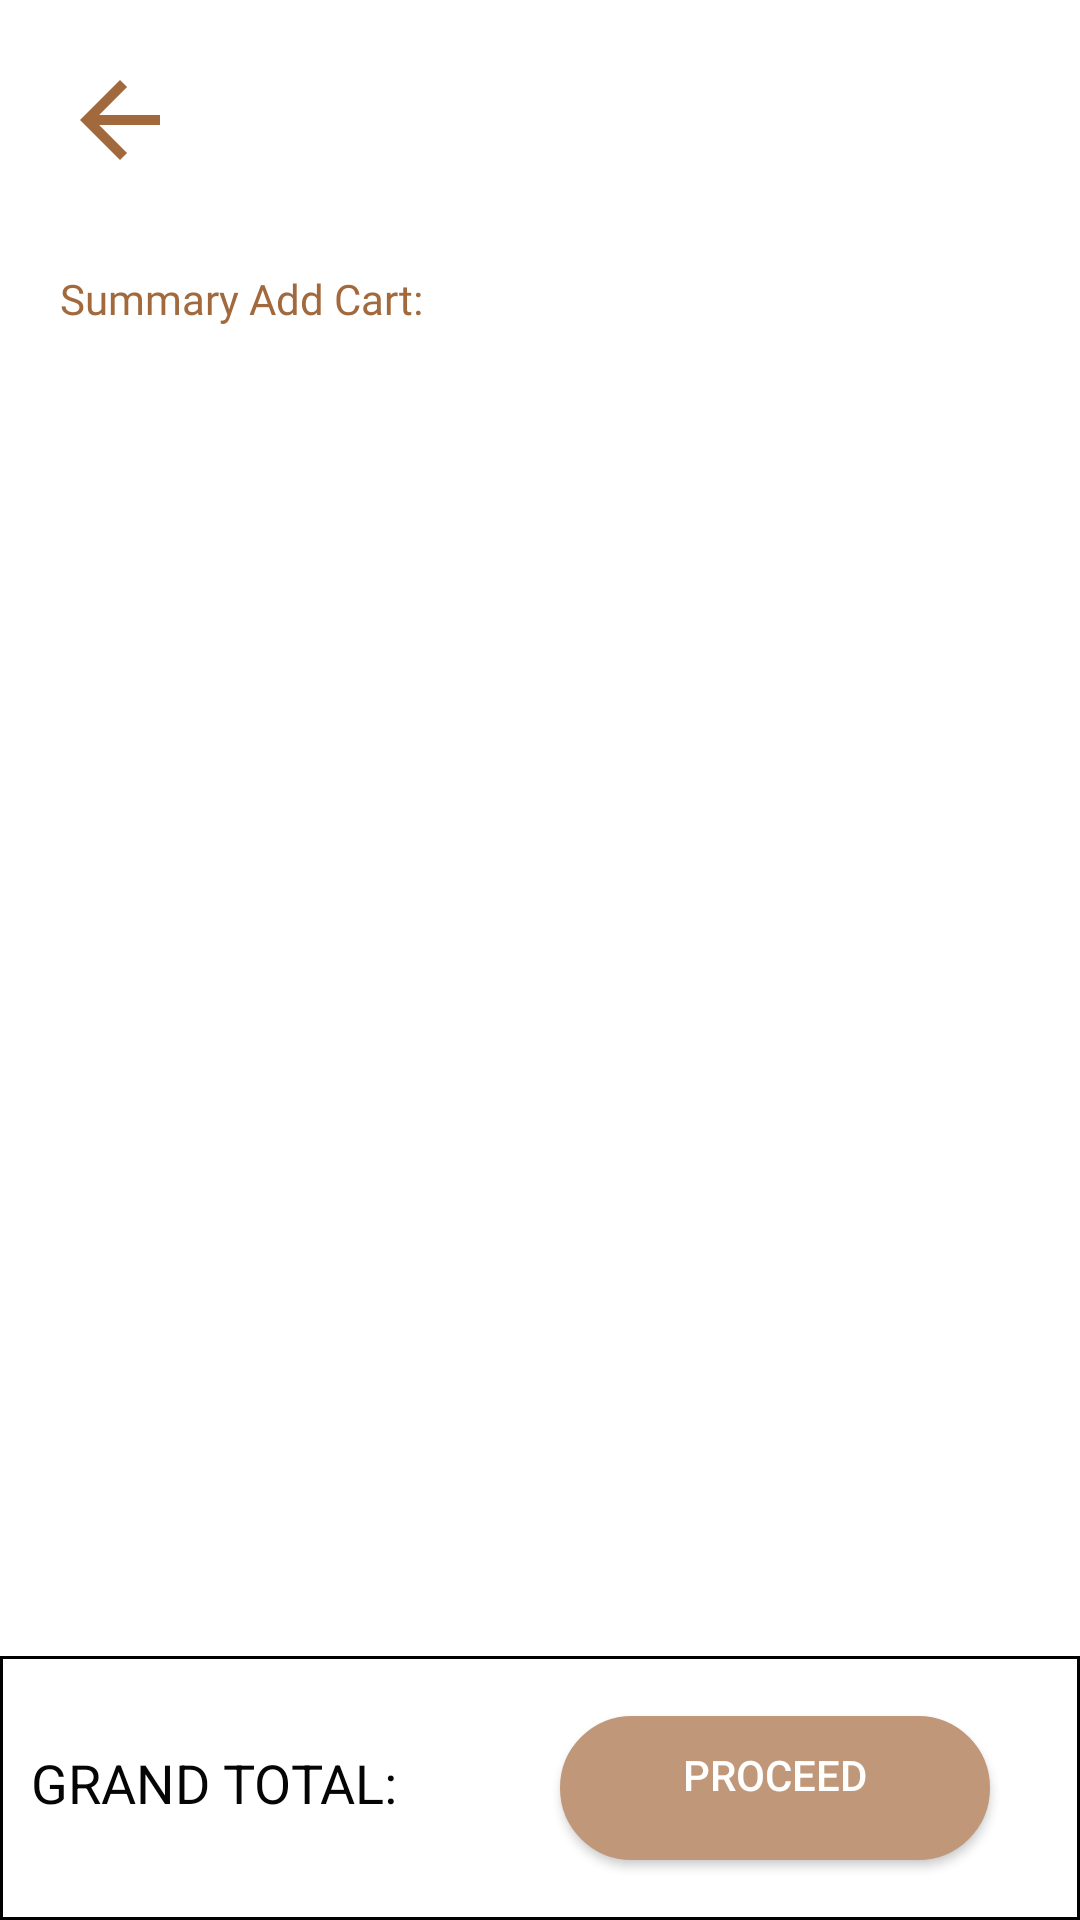

Icon bounding boxes for this 1080 × 1920 phone screenshot, format (x1, y1, x2, y2):
arrow back: (80, 80, 160, 160)
